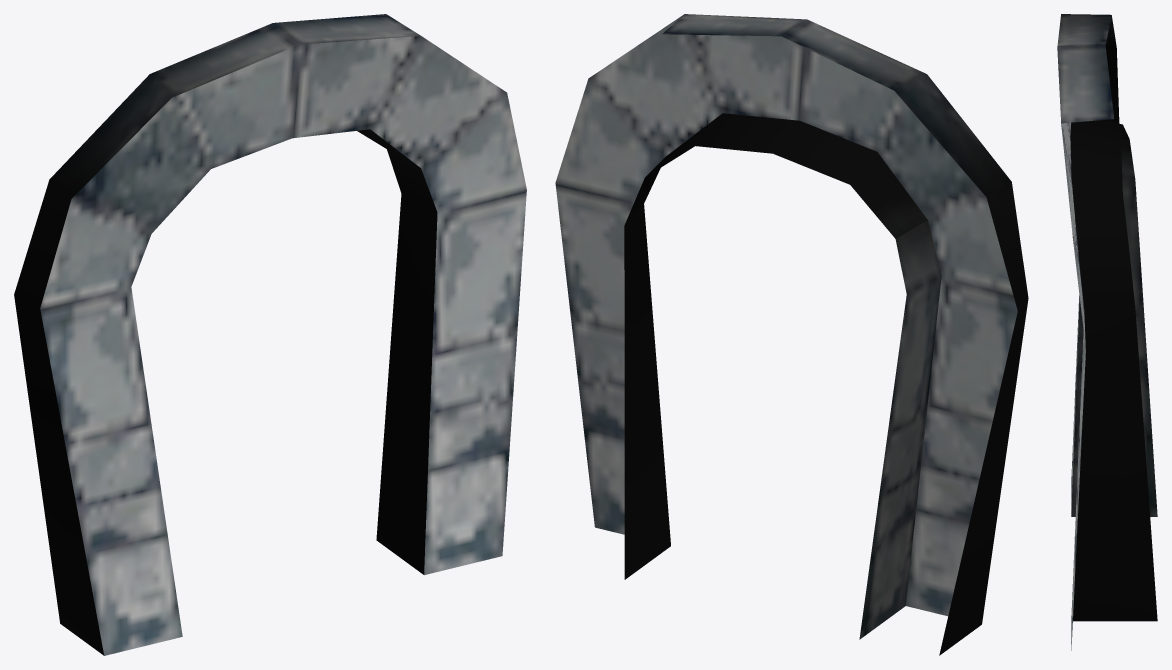
Rendered from arch.dae.
3 renders of one model, left to right at view 1: azimuth 30°, elevation 25°; view 2: azimuth 150°, elevation 25°; view 3: azimuth 270°, elevation 25°, orthographic. The views are drawn at different scales.
Visible parts, largest first — view 1: arch3D_PIVOT; view 2: arch3D_PIVOT; view 3: arch3D_PIVOT.
Boxes of the visible parts, box(x1,y1,x2,y2) form: arch3D_PIVOT: box(14, 14, 526, 655); arch3D_PIVOT: box(555, 14, 1028, 655); arch3D_PIVOT: box(1057, 14, 1157, 650).
Size of the model in its own units: 3.9 by 4.32 by 0.7561.
Materials: 1 (1 with a texture image).
